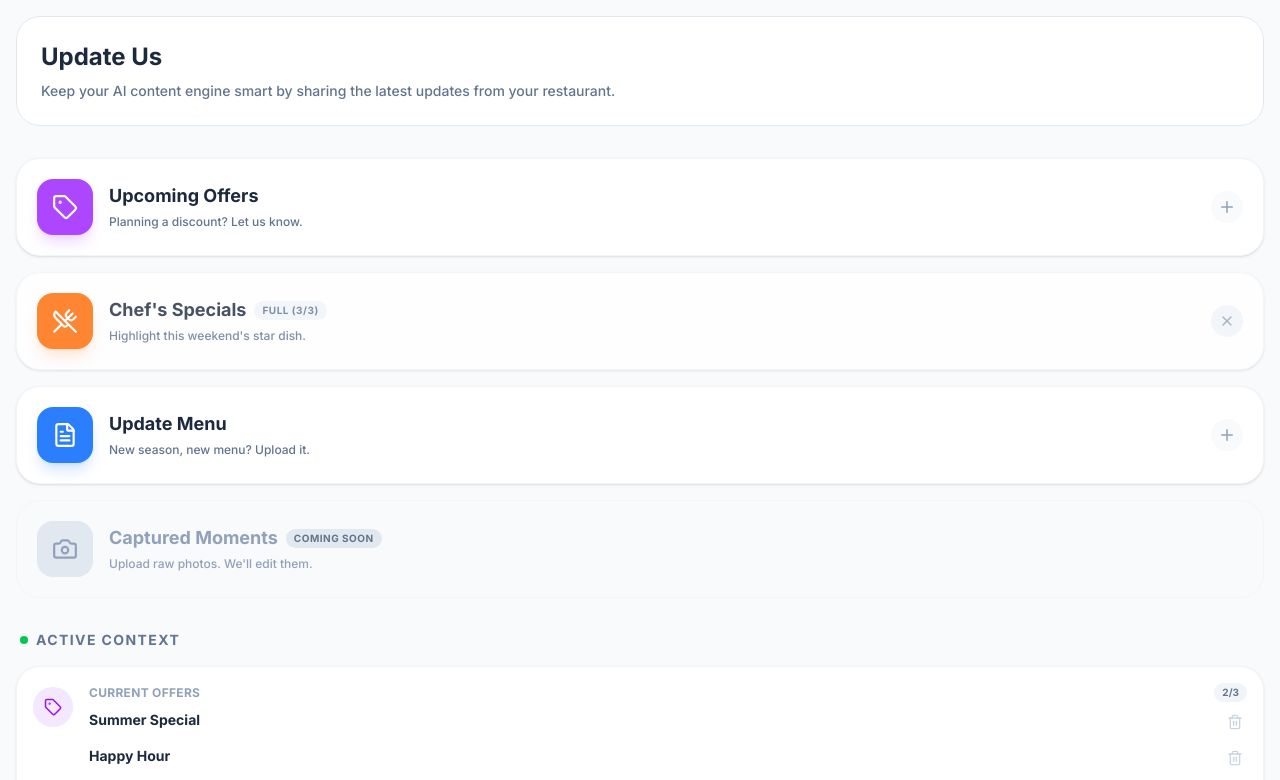
Inputs Component › Modal Interactions › should show notice when trying to add a 4th special (max 3)
Click the button that starts with "Chef's Specials" at (65, 321), box top-left (16, 272), bottom-right (1264, 370)
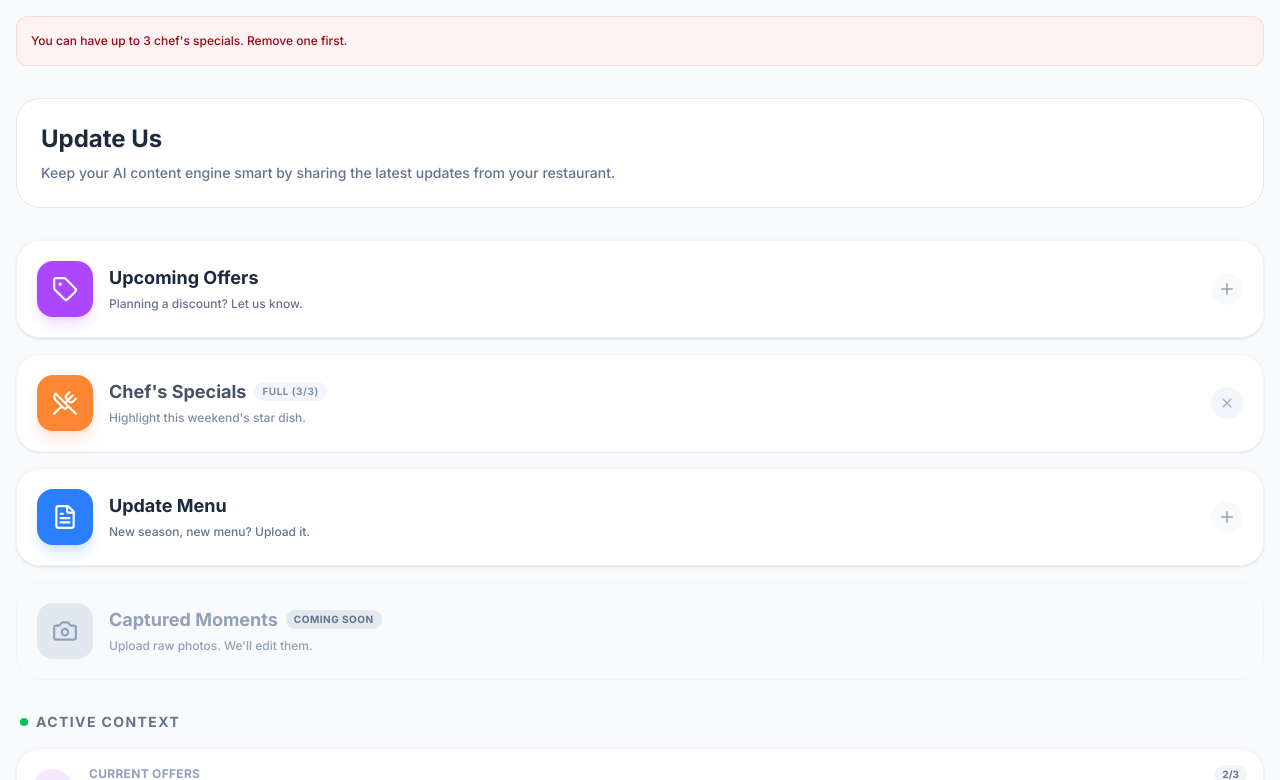
Expected: the text "You can have up to 3 chef's specials. Remove one first." is shown, top-left (31, 33), bottom-right (347, 48)
